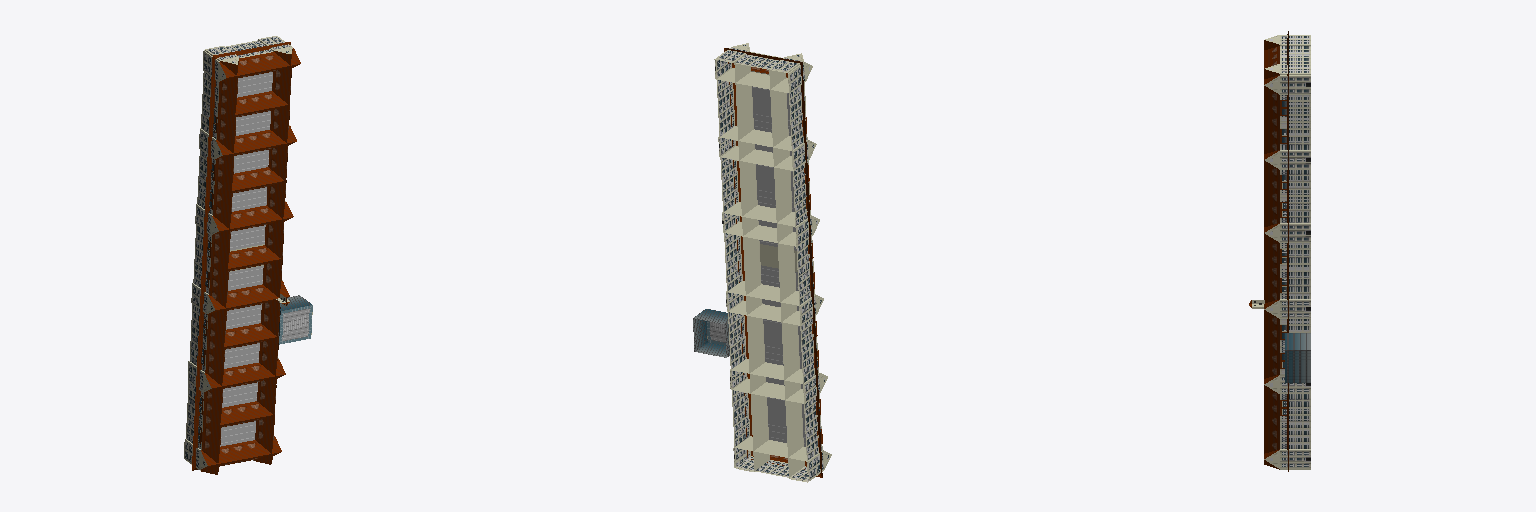
The picture shows the model from 3 angles: view 1: azimuth 30°, elevation 25°; view 2: azimuth 150°, elevation 25°; view 3: azimuth 270°, elevation 25°; orthographic projection.
Visible parts, largest first — view 1: DEU_HI1154_KARLSRUHE_ZKM_MEDIA_MUSEUM_L; view 2: DEU_HI1154_KARLSRUHE_ZKM_MEDIA_MUSEUM_L; view 3: DEU_HI1154_KARLSRUHE_ZKM_MEDIA_MUSEUM_L.
Part boxes in pixels (bbox=[...]): DEU_HI1154_KARLSRUHE_ZKM_MEDIA_MUSEUM_L: bbox=[184, 36, 312, 474]; DEU_HI1154_KARLSRUHE_ZKM_MEDIA_MUSEUM_L: bbox=[693, 43, 831, 482]; DEU_HI1154_KARLSRUHE_ZKM_MEDIA_MUSEUM_L: bbox=[1249, 31, 1310, 471].
Bounding box in the file's own units: 95.01 × 315 × 43.47.
Materials: 1 (1 with a texture image).